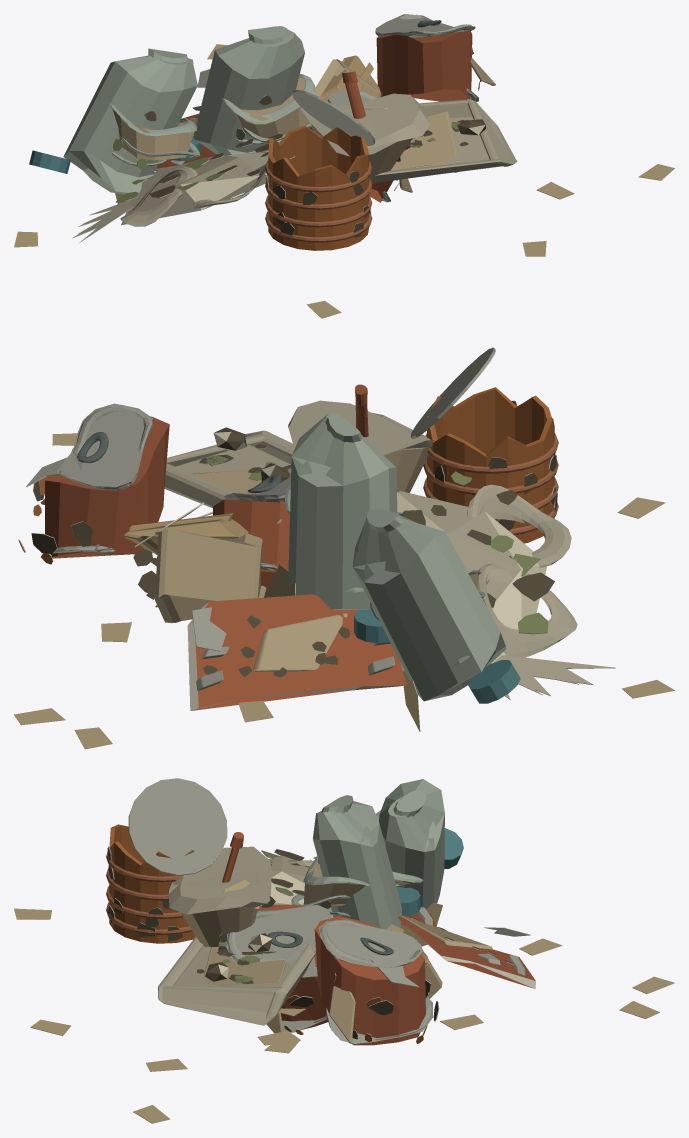
File: Dirty_Litter_Heap_1.glb
3 renders of one model, top to bottom at view 1: azimuth 30°, elevation 25°; view 2: azimuth 150°, elevation 25°; view 3: azimuth 270°, elevation 25°, orthographic. The views are drawn at different scales.
Parts seen in each view (by area): view 1: Litter; view 2: Litter; view 3: Litter.
Part boxes in pixels (x1,y1,x2,y2): Litter: (14, 14, 674, 318); Litter: (14, 347, 674, 749); Litter: (14, 778, 674, 1123).
Size of the model in its own units: 1.38 by 0.4334 by 1.3.
